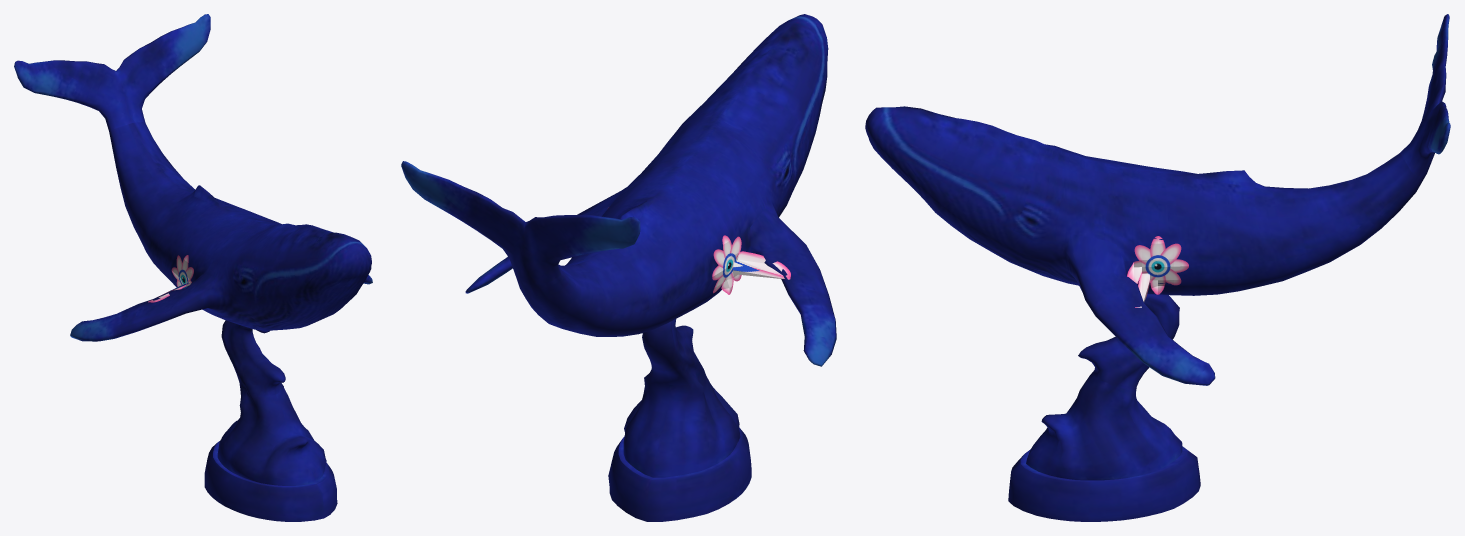
The model's file is nyb_natm_whale.glb.
3 renders of one model, left to right at view 1: azimuth 30°, elevation 25°; view 2: azimuth 150°, elevation 25°; view 3: azimuth 270°, elevation 25°, orthographic. The views are drawn at different scales.
Parts seen in each view (by area): view 1: bronze_whale_statue, stk_eyeflower.png.001; view 2: bronze_whale_statue, stk_eyeflower.png.001; view 3: bronze_whale_statue, stk_eyeflower.png.
Part boxes in pixels (x1,y1,x2,y2): bronze_whale_statue: (14,14,372,521); stk_eyeflower.png.001: (148,255,193,302); bronze_whale_statue: (401,14,836,521); stk_eyeflower.png.001: (712,235,790,294); bronze_whale_statue: (865,14,1450,521); stk_eyeflower.png: (1127,236,1188,307).
Bounding box in the file's own units: 0.932 × 1.07 × 1.37.
Materials: 3 (3 with a texture image).
